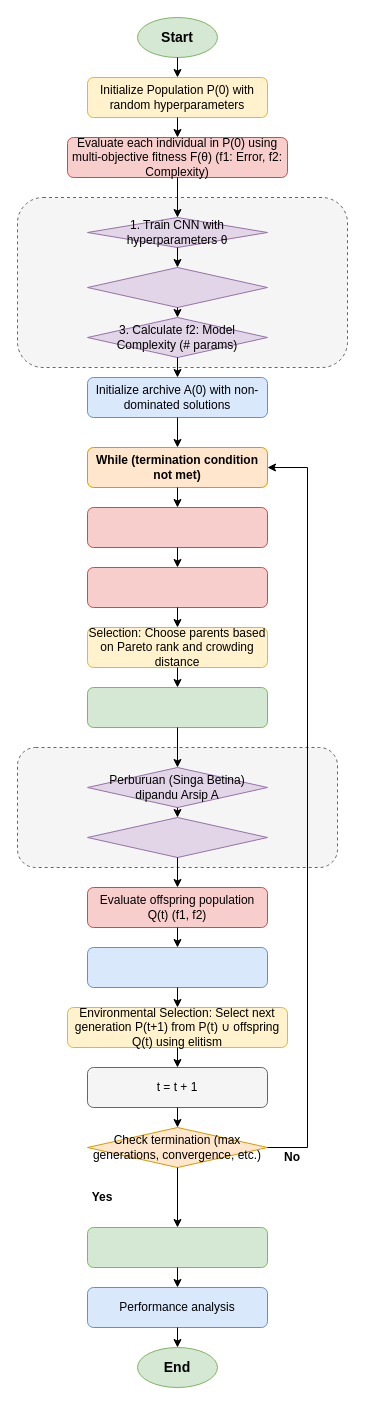
Some shapes in this 365 by 1405 pixel diagram are drawn without their labels. Here are the shapes that lost their labels. From the top down, the centre of each, then its label:
point 177,287: 2. Calculate f1: (1 - Validation Accuracy)
point 177,527: Fast Non-dominated Sort on P(t) ∪ A(t)
point 177,587: Calculate Crowding Distance for diversity maintenance
point 177,707: Modified Lion Update: Generate offspring Q(t) using MLO mechanisms
point 177,837: Update Singa Nomaden & Jantan (Roaming/Territorial)
point 177,967: Update archive A(t+1) with new non-dominated solutions
point 177,1247: Output Pareto-optimal solutions from Archive A
